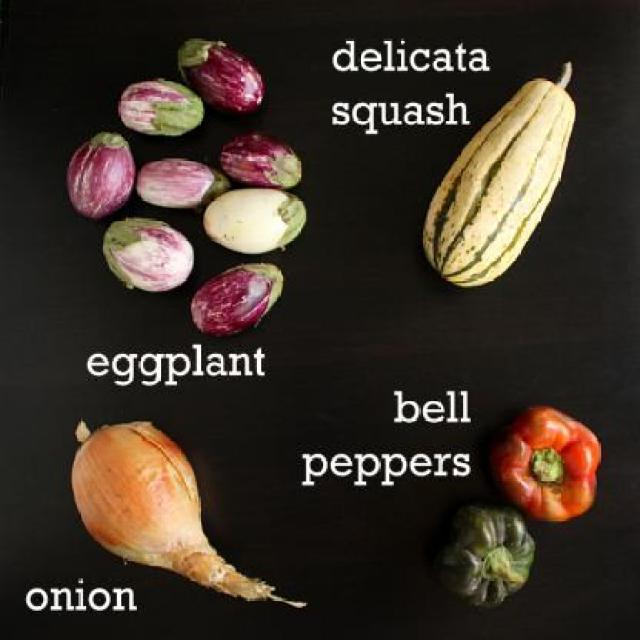Bell pepper: (493, 409, 604, 523), (430, 506, 536, 609)
